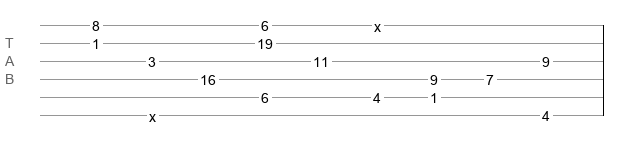1: (92, 36, 100, 46), (430, 90, 438, 100)
11: (313, 54, 329, 64)
16: (200, 72, 216, 82)
19: (257, 36, 273, 46)
3: (148, 54, 156, 64)
4: (373, 90, 381, 100), (542, 108, 550, 118)
6: (261, 90, 269, 100), (261, 18, 269, 28)
7: (486, 72, 494, 82)
8: (92, 18, 100, 28)
9: (430, 72, 438, 82), (542, 54, 550, 64)
x: (149, 109, 156, 117), (374, 19, 381, 27)
